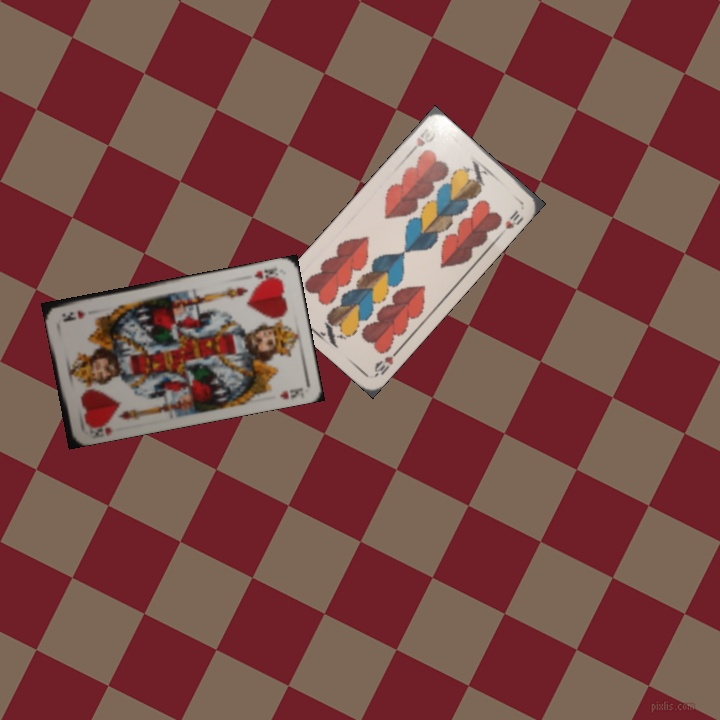H10: (370, 345, 402, 379), (405, 124, 433, 157)
HK: (82, 417, 116, 438), (251, 263, 281, 284)
